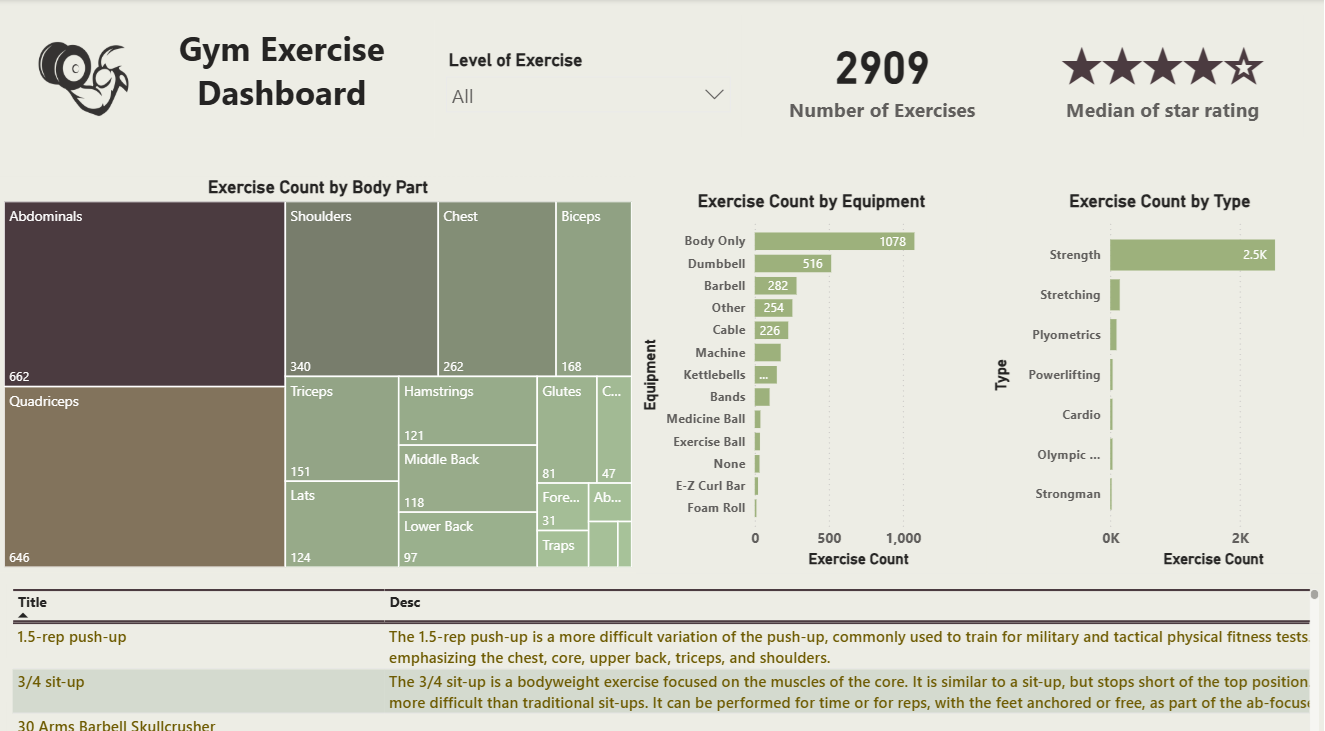

The dashboard page shown, as its layout file describes it:
{"tool":"powerbi","page":{"name":"Page 1","canvas":[1280,720],"ordinal":0},"visuals":[{"type":"textbox","box":[125.4,20.4,293.6,112.6],"z":0},{"type":"card","fields":{"Values":["Count(megaGymDataset.Title)"]},"box":[712.7,16.2,270.8,116.9],"z":1000},{"type":"card","fields":{"Values":["megaGymDataset.Median of Rating star rating"]},"box":[983.5,16.2,269.4,116.9],"z":2000},{"type":"barChart","fields":{"Y":["CountNonNull(megaGymDataset.Title)"],"Category":["megaGymDataset.Equipment"]},"box":[612.9,183.9,336.4,367.8],"z":3000},{"type":"barChart","fields":{"Y":["CountNonNull(megaGymDataset.Title)"],"Category":["megaGymDataset.Type"]},"box":[949.3,183.9,330.7,367.8],"z":4000},{"type":"treemap","fields":{"Group":["megaGymDataset.BodyPart"],"Values":["CountNonNull(megaGymDataset.Title)"]},"box":[0,171,612.9,380.6],"z":5000},{"type":"slicer","fields":{"Values":["megaGymDataset.Level"]},"box":[419.1,43.2,293.6,89.8],"z":6000},{"type":"image","box":[0,0.5,162.5,153.9],"z":6001},{"type":"tableEx","fields":{"Values":["megaGymDataset.Title","megaGymDataset.Desc"]},"box":[7.1,561.6,1265.7,158.2],"z":6002}]}

Visuals, with their boxes in screenshot pixels (x1, y1, x2, y2), scaled from the page's 1280x720 canvas onto the 1325x731 screenshot:
textbox: {"left": 130, "top": 21, "right": 434, "bottom": 135}
card - Count(megaGymDataset.Title): {"left": 738, "top": 16, "right": 1018, "bottom": 135}
card - megaGymDataset.Median of Rating star rating: {"left": 1018, "top": 16, "right": 1297, "bottom": 135}
barChart - CountNonNull(megaGymDataset.Title) x megaGymDataset.Equipment: {"left": 634, "top": 187, "right": 983, "bottom": 560}
barChart - CountNonNull(megaGymDataset.Title) x megaGymDataset.Type: {"left": 983, "top": 187, "right": 1324, "bottom": 560}
treemap - megaGymDataset.BodyPart x CountNonNull(megaGymDataset.Title): {"left": 0, "top": 174, "right": 634, "bottom": 560}
slicer - megaGymDataset.Level: {"left": 434, "top": 44, "right": 738, "bottom": 135}
image: {"left": 0, "top": 1, "right": 168, "bottom": 157}
tableEx - megaGymDataset.Title x megaGymDataset.Desc: {"left": 7, "top": 570, "right": 1318, "bottom": 730}
